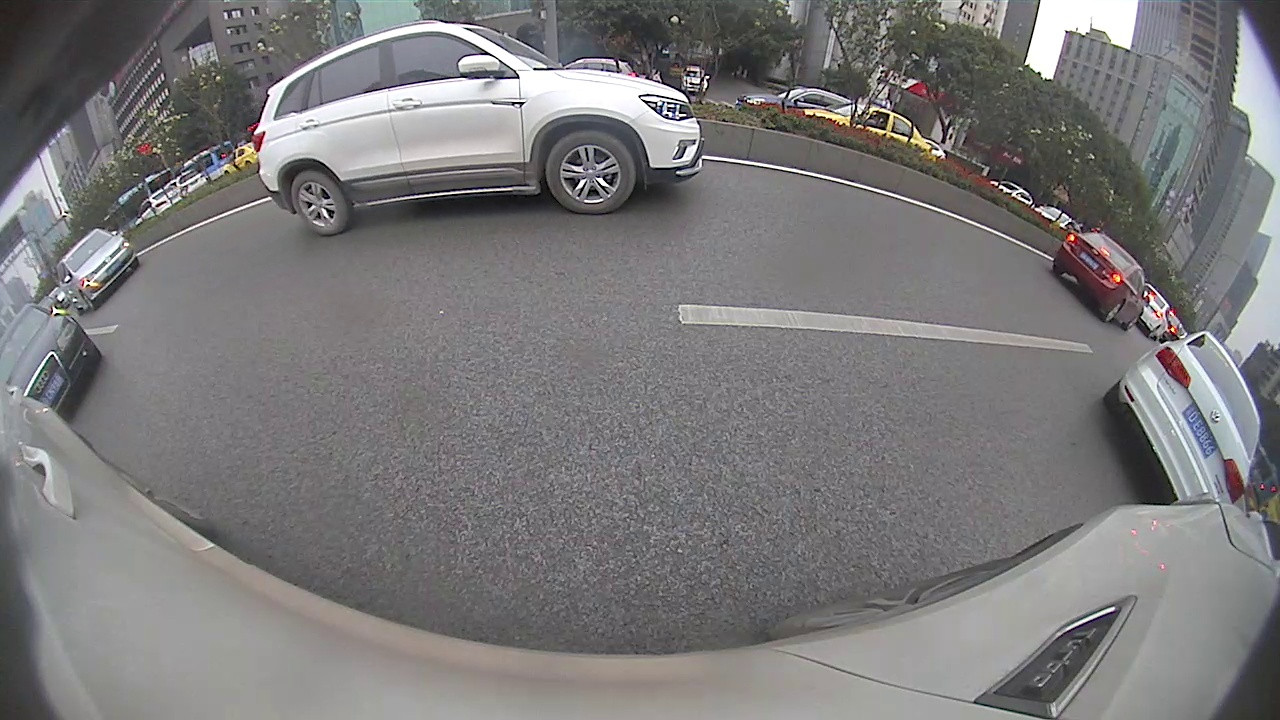car: (253, 18, 706, 238), (1100, 330, 1263, 506), (2, 298, 103, 412), (1053, 227, 1152, 331), (53, 225, 141, 313)
front: (548, 131, 636, 218)
rear: (291, 170, 349, 236), (1101, 299, 1123, 323)
